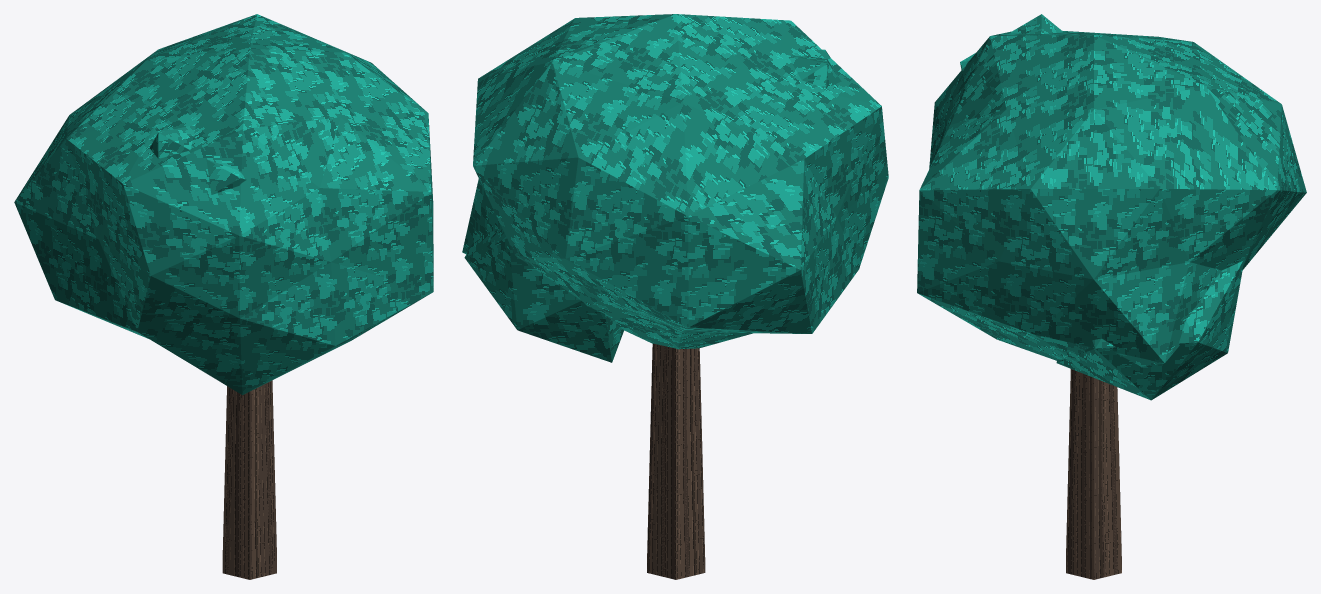
Rendered from oak.glb.
The picture shows the model from 3 angles, left to right: view 1: azimuth 30°, elevation 25°; view 2: azimuth 150°, elevation 25°; view 3: azimuth 270°, elevation 25°; orthographic projection. The views are drawn at different scales.
Visible parts, largest first — view 1: oak; view 2: oak; view 3: oak.
Boxes of the visible parts, <box> form: oak: <box>14,14,433,579</box>; oak: <box>462,14,888,579</box>; oak: <box>917,14,1306,579</box>.
Size of the model in its own units: 3.97 by 5.62 by 3.74.
Materials: 2 (2 with a texture image).
